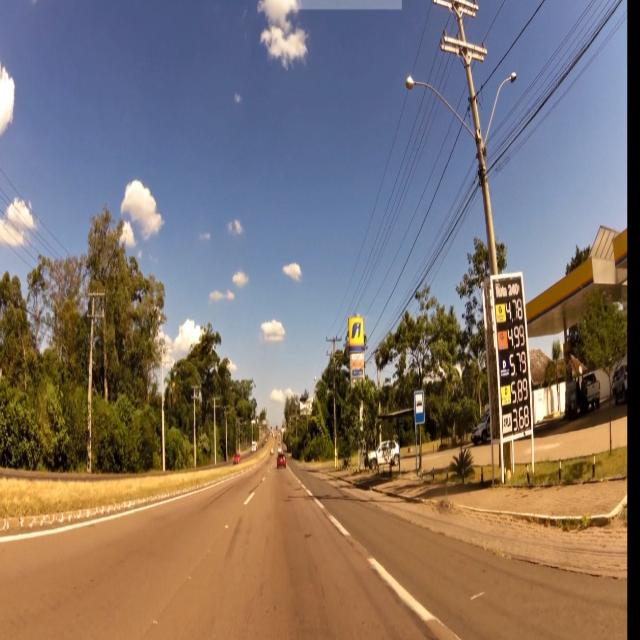S-14: (413, 392, 426, 423)
